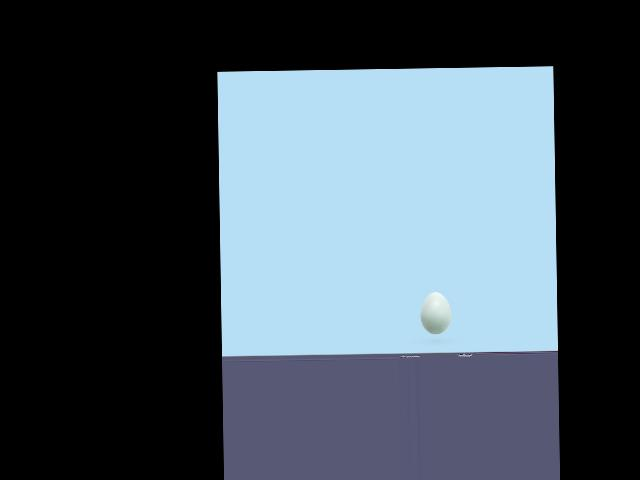egg: (419, 291, 451, 334)
